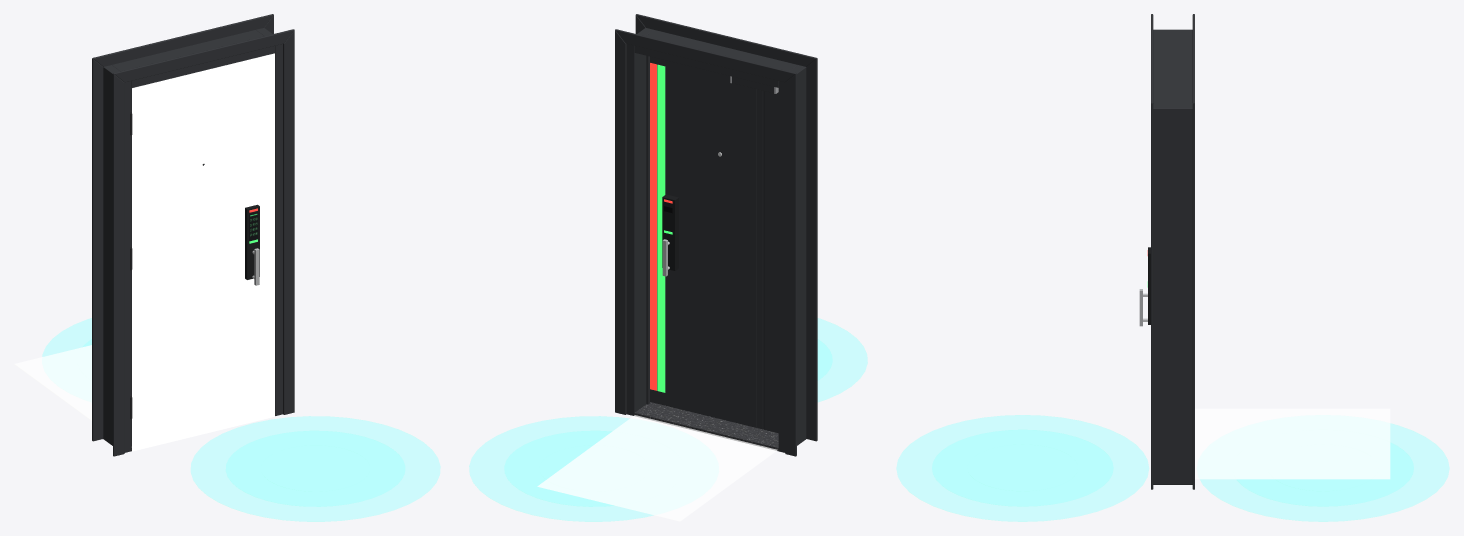
File: door_main.glb
3 renders of one model, left to right at view 1: azimuth 30°, elevation 25°; view 2: azimuth 150°, elevation 25°; view 3: azimuth 270°, elevation 25°, orthographic.
Visible parts, largest first — view 1: door_main_open_light, door_main_unlock_pool, door_main_casing, door_main_frame, door_main_lock_body; view 2: door_main_leaf_body, door_main_unlock_pool, door_main_frame, door_main_casing, door_main_open_light, door_main_lock_green, door_main_lock_red, door_main_lock_body; view 3: door_main_unlock_pool, door_main_frame, door_main_open_light, door_main_casing.
Part boxes in pixels (bbox=[...]): door_main_open_light: bbox=[14, 53, 274, 451]; door_main_unlock_pool: bbox=[42, 318, 440, 521]; door_main_casing: bbox=[92, 14, 294, 456]; door_main_frame: bbox=[103, 28, 282, 452]; door_main_lock_body: bbox=[202, 164, 259, 285]; door_main_leaf_body: bbox=[650, 56, 778, 433]; door_main_unlock_pool: bbox=[469, 318, 867, 521]; door_main_frame: bbox=[626, 28, 806, 452]; door_main_casing: bbox=[615, 14, 817, 456]; door_main_open_light: bbox=[537, 415, 777, 521]; door_main_lock_green: bbox=[657, 64, 672, 392]; door_main_lock_red: bbox=[650, 63, 672, 390]; door_main_lock_body: bbox=[662, 152, 721, 276]; door_main_unlock_pool: bbox=[896, 415, 1449, 521]; door_main_frame: bbox=[1153, 29, 1192, 484]; door_main_open_light: bbox=[1195, 408, 1390, 479]; door_main_casing: bbox=[1151, 14, 1194, 489].
Size of the model in its own units: 1.46 by 2.16 by 2.8.
17 materials, 3 textured.
